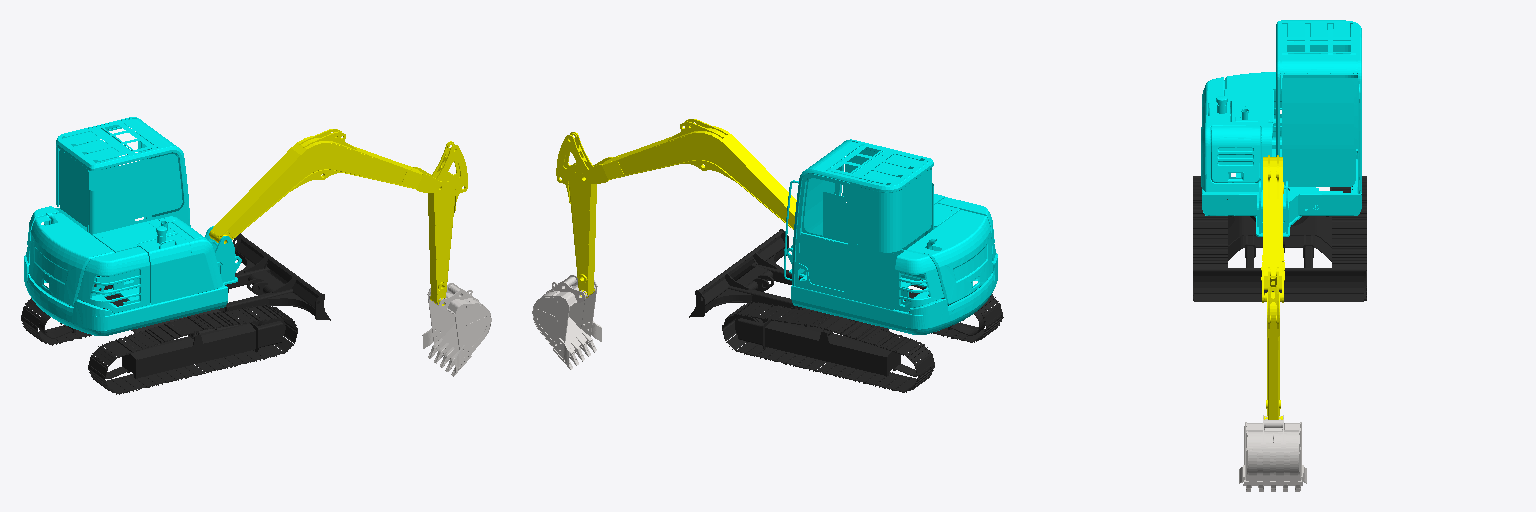
robot.urdf — marm_description:
<robot
  name="marm_description">
  <link
    name="base_link">
    <inertial>
      <origin
        xyz="0.89793 0.0045944 0.30758"
        rpy="0 0 0" />
      <mass
        value="267.05" />
      <inertia
        ixx="155.01"
        ixy="-0.23079"
        ixz="-7.049"
        iyy="160.78"
        iyz="0.044583"
        izz="307.7" />
    </inertial>
    <visual>
      <origin
        xyz="0 0 0"
        rpy="0 0 0" />
      <geometry>
        <mesh
          filename="package://marm_description/meshes/base_link.STL" />
      </geometry>
      <material
        name="">
        <color
          rgba="0.2 0.2 0.2 1" />
      </material>
    </visual>
    <collision>
      <origin
        xyz="0 0 0"
        rpy="0 0 0" />
      <geometry>
        <mesh
          filename="package://marm_description/meshes/base_link.STL" />
      </geometry>
    </collision>
  </link>

  <link
    name="link1">
    <inertial>
      <origin
        xyz="2.5943 -0.055035 0.74987"
        rpy="0 0 0" />
      <mass
        value="1896.7" />
      <inertia
        ixx="718.49"
        ixy="87.982"
        ixz="-301.34"
        iyy="4912.8"
        iyz="23.826"
        izz="4533.7" />
    </inertial>
    <visual>
      <origin
        xyz="0 0 0"
        rpy="0 0 0" />
      <geometry>
        <mesh
          filename="package://marm_description/meshes/link1.STL" />
      </geometry>
      <material
        name="">
        <color
          rgba="0.03 1.68 1.58 2.55" />
      </material>
    </visual>
    <collision>
      <origin
        xyz="0 0 0"
        rpy="0 0 0" />
      <geometry>
        <mesh
          filename="package://marm_description/meshes/link1.STL" />
      </geometry>
    </collision>
  </link>

  

  <link
    name="link2">
    <inertial>
      <origin
        xyz="1.4069 0.51583 0.00043141"
        rpy="0 0 0" />
      <mass
        value="1149.7" />
      <inertia
        ixx="62.889"
        ixy="-4.0888"
        ixz="-0.60716"
        iyy="575.38"
        iyz="0.16274"
        izz="629.63" />
    </inertial>
    <visual>
      <origin
        xyz="0 0 0"
        rpy="0 0 0" />
      <geometry>
        <mesh
          filename="package://marm_description/meshes/link2.STL" />
      </geometry>
      <material
        name="">
        <color
          rgba="2.55 2.55 0 2.55" />
      </material>
    </visual>
    <collision>
      <origin
        xyz="0 0 0"
        rpy="0 0 0" />
      <geometry>
        <mesh
          filename="package://marm_description/meshes/link2.STL" />
      </geometry>
    </collision>
  </link>

 
  <link
    name="link3">
    <inertial>
      <origin
        xyz="0.64616 0.054458 1.9617E-05"
        rpy="0 0 0" />
      <mass
        value="308.3" />
      <inertia
        ixx="1.9786"
        ixy="3.3846"
        ixz="0.0039077"
        iyy="62.708"
        iyz="0.00032934"
        izz="63.701" />
    </inertial>
    <visual>
      <origin
        xyz="0 0 0"
        rpy="0 0 0" />
      <geometry>
        <mesh
          filename="package://marm_description/meshes/link3.STL" />
      </geometry>
      <material
        name="">
        <color
          rgba="2.55 2.55 0 2.55" />
      </material>
    </visual>
    <collision>
      <origin
        xyz="0 0 0"
        rpy="0 0 0" />
      <geometry>
        <mesh
          filename="package://marm_description/meshes/link3.STL" />
      </geometry>
    </collision>
  </link>

 

  <link
    name="link4">
    <inertial>
      <origin
        xyz="0.22788 0.1819 0.02514"
        rpy="0 0 0" />
      <mass
        value="136.04" />
      <inertia
        ixx="8.3836"
        ixy="-0.63526"
        ixz="-0.39851"
        iyy="17.276"
        iyz="0.19387"
        izz="14.026" />
    </inertial>
    <visual>
      <origin
        xyz="0 0 0"
        rpy="0 0 0" />
      <geometry>
        <mesh
          filename="package://marm_description/meshes/link4.STL" />
      </geometry>
      <material
        name="">
        <color
          rgba="0.88 0.87 0.86 2.55" />
      </material>
    </visual>
    <collision>
      <origin
        xyz="0 0 0"
        rpy="0 0 0" />
      <geometry>
        <mesh
          filename="package://marm_description/meshes/link4.STL" />
      </geometry>
    </collision>
  </link>

  <link
    name="tip_link" />




<joint
    name="joint1"
    type="revolute">
    <origin
      xyz="0 0 0.72143"
      rpy="0 0 0" />
    <parent
      link="base_link" />
    <child
      link="link1" />
    <axis
      xyz="0 0 1" />
    <limit
      lower="-3.14"
      upper="3.14"
      effort="0"
      velocity="0" />
  </joint>

 <joint
    name="joint2"
    type="revolute">
    <origin
      xyz="0.78 -0.07 0.548"
      rpy="1.5708 0 0" />
    <parent
      link="link1" />
    <child
      link="link2" />
    <axis
      xyz="0 0 1" />
     <limit
      lower="-0.1719"
      upper="1.1526"
      effort="0"
      velocity="0" />
  </joint>

 <joint
    name="joint3"
    type="revolute">
    <origin
      xyz="3 0 -0.0005"
      rpy="0 0 0" />
    <parent
      link="link2" />
    <child
      link="link3" />
    <axis
      xyz="0 0 1" />
   <limit
      lower="-2.5265"
      upper="-0.5544"
      effort="0"
      velocity="0" />
  </joint>


<joint
    name="joint4"
    type="revolute">
    <origin
      xyz="1.55 0 -0.0005"
      rpy="0 0 0" />
    <parent
      link="link3" />
    <child
      link="link4" />
    <axis
      xyz="0 0 1" />
     <limit
      lower="-2.4107"
      upper="0.578"
      effort="0"
      velocity="0" />
  </joint>


  <joint
    name="tip_joint"
    type="fixed">
    <origin
      xyz="0.89258 0 0"
      rpy="0 0 0" />
    <parent
      link="link4" />
    <child
      link="tip_link" />
    <axis
      xyz="0 0 0" />
  </joint>
</robot>

--- What the picture shows (computed from the rendered views, not written in the file) ---
Views: 3 orthographic renders of the robot side by side, from view 1: azimuth 30°, elevation 25°; view 2: azimuth 150°, elevation 25°; view 3: azimuth 270°, elevation 25°.
Robot: marm_description — 6 links, 5 joints (4 revolute, 1 fixed); root link base_link; default pose: joints at zero except 1 at the middle of their limits (joint3 = -1.54).
Links seen in each view (by area): view 1: link1, base_link, link2, link4, link3; view 2: link1, base_link, link2, link4, link3; view 3: link1, base_link, link4, link2, link3.
Link boxes in pixels (x1,y1,x2,y2): link1: [24, 117, 241, 335]; base_link: [21, 233, 330, 394]; link2: [209, 129, 444, 243]; link4: [422, 283, 491, 376]; link3: [428, 141, 467, 305]; link1: [784, 139, 997, 334]; base_link: [689, 229, 1003, 392]; link2: [579, 119, 796, 229]; link4: [532, 275, 601, 369]; link3: [556, 132, 596, 297]; link1: [1201, 20, 1361, 236]; base_link: [1193, 176, 1366, 301]; link4: [1239, 415, 1306, 491]; link2: [1261, 155, 1284, 302]; link3: [1264, 267, 1282, 419].
Bounding box of the posed robot: 5.99 × 2.02 × 3.78 m (x, y, z).
5 mesh visuals loaded from 5 distinct referenced files (5 binary STL).
